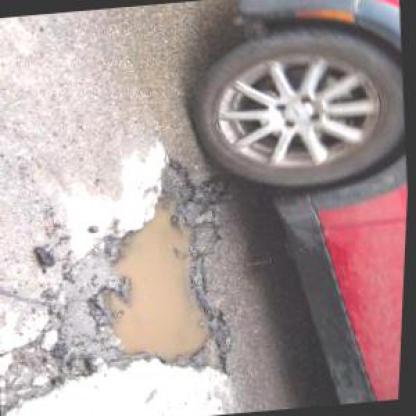pothole: (89, 152, 247, 387)
